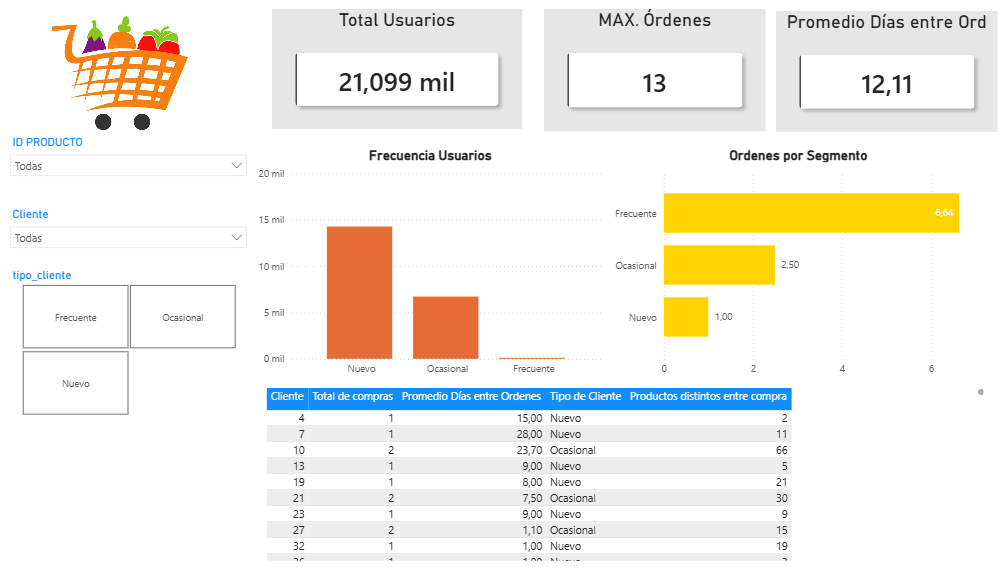

Layout of this report page (visuals, bound fields, positions):
{"tool":"powerbi","page":{"name":"Duplicado de Ventas por Departamento","canvas":[1280,720],"ordinal":1},"visuals":[{"type":"barChart","title":"Ordenes por Segmento","fields":{"Category":["frecuencia_usuarios.tipo_cliente"],"Y":["Avg(frecuencia_usuarios.total_ordenes)"]},"box":[768.5,186.5,478.7,294.8],"z":0},{"type":"columnChart","title":"Frecuencia Usuarios","fields":{"Category":["frecuencia_usuarios.tipo_cliente"],"Y":["CountNonNull(frecuencia_usuarios.user_id)"]},"box":[327.6,186.5,440.9,294.8],"z":1000},{"type":"cardVisual","title":"Total Usuarios","fields":{"Data":["CountNonNull(frecuencia_usuarios.user_id)"]},"box":[350,14.3,312.9,150],"z":2000},{"type":"cardVisual","title":"MAX. Órdenes","fields":{"Data":["Max(frecuencia_usuarios.total_ordenes)"]},"box":[690,14.3,277.1,152.9],"z":3000},{"type":"cardVisual","title":"Promedio Días entre Ord","fields":{"Data":["Avg(frecuencia_usuarios.promedio_dias_entre_ordenes)"]},"box":[980,15.7,277.1,151.4],"z":4000},{"type":"tableEx","fields":{"Values":["frecuencia_usuarios.user_id","frecuencia_usuarios.total_ordenes","frecuencia_usuarios.promedio_dias_entre_ordenes","frecuencia_usuarios.tipo_cliente","frecuencia_usuarios.total_productos_distintos"]},"box":[338,482,908,226],"z":5000},{"type":"slicer","fields":{"Values":["frecuencia_usuarios.tipo_cliente"]},"box":[12,334,316,194],"z":6000},{"type":"slicer","fields":{"Values":["frecuencia_usuarios.user_id"]},"box":[12,258,316,76],"z":7000},{"type":"image","box":[37.5,22.5,245,143.8],"z":9000},{"type":"slicer","fields":{"Values":["productos.product_id"]},"box":[12,168,316,76],"z":9001}]}

Visuals, with their boxes in screenshot pixels (x1, y1, x2, y2), scaled from the page's 1280x720 canvas onto the 1003x570 screenshot:
"Ordenes por Segmento" barChart: rect(602, 148, 977, 381)
"Frecuencia Usuarios" columnChart: rect(257, 148, 602, 381)
"Total Usuarios" cardVisual: rect(274, 11, 519, 130)
"MAX. Órdenes" cardVisual: rect(541, 11, 758, 132)
"Promedio Días entre Ord" cardVisual: rect(768, 12, 985, 132)
tableEx - frecuencia_usuarios.user_id x frecuencia_usuarios.total_ordenes: rect(265, 382, 976, 560)
slicer - frecuencia_usuarios.tipo_cliente: rect(9, 264, 257, 418)
slicer - frecuencia_usuarios.user_id: rect(9, 204, 257, 264)
image: rect(29, 18, 221, 132)
slicer - productos.product_id: rect(9, 133, 257, 193)
